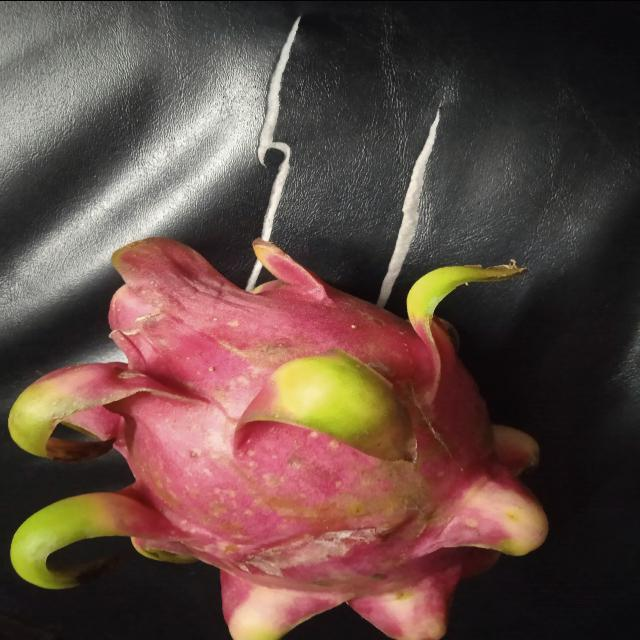do: (3, 233, 552, 639)
